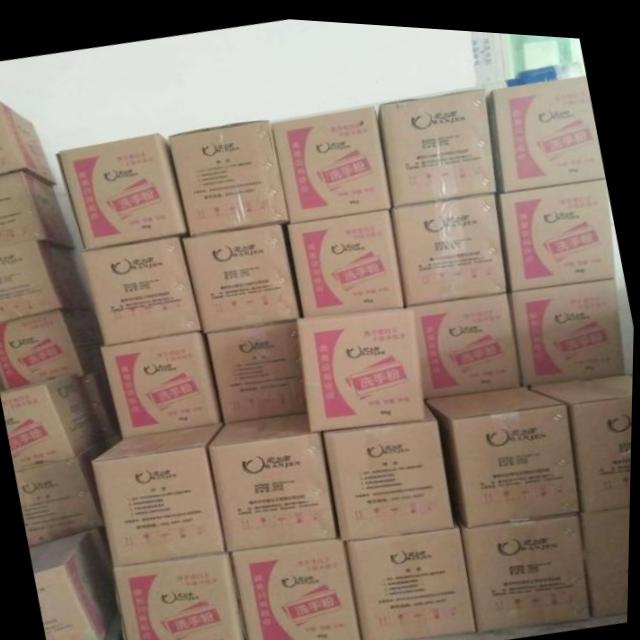box: (428, 378, 583, 521), (93, 417, 227, 565), (209, 407, 339, 549), (322, 397, 456, 534), (297, 301, 427, 428), (524, 364, 634, 507), (462, 507, 595, 625), (56, 131, 189, 248), (347, 520, 480, 637), (269, 99, 392, 218), (379, 80, 499, 200), (488, 67, 605, 186), (232, 534, 363, 640), (169, 116, 290, 230), (82, 232, 203, 344), (498, 170, 616, 284), (184, 219, 301, 332), (288, 202, 406, 314), (393, 187, 508, 301), (102, 328, 222, 436), (507, 271, 627, 376), (115, 548, 246, 640), (417, 284, 522, 394), (17, 439, 111, 547), (208, 316, 305, 420), (32, 528, 121, 640), (1, 374, 104, 467), (0, 307, 106, 392), (0, 239, 95, 322), (0, 171, 76, 247), (583, 499, 632, 610), (0, 102, 59, 184), (83, 364, 124, 448)
